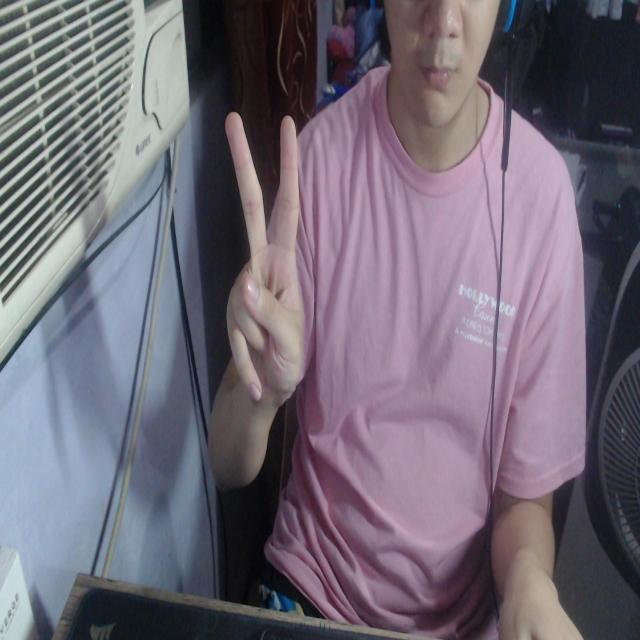V: (224, 112, 307, 408)
